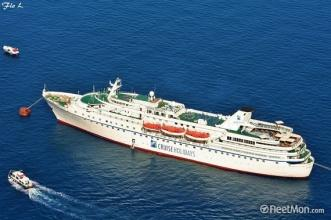otherboat: (8, 167, 39, 191), (2, 43, 21, 55)
youlun: (42, 81, 321, 176)
